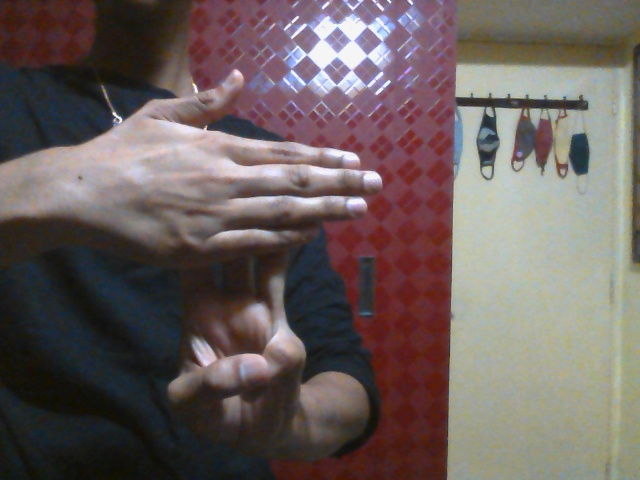M: (76, 67, 381, 456)
